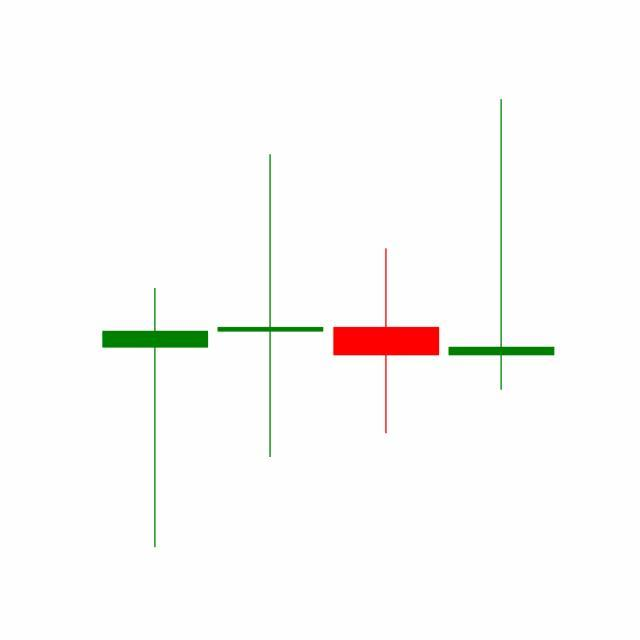Spinning Top: (444, 97, 560, 395)
